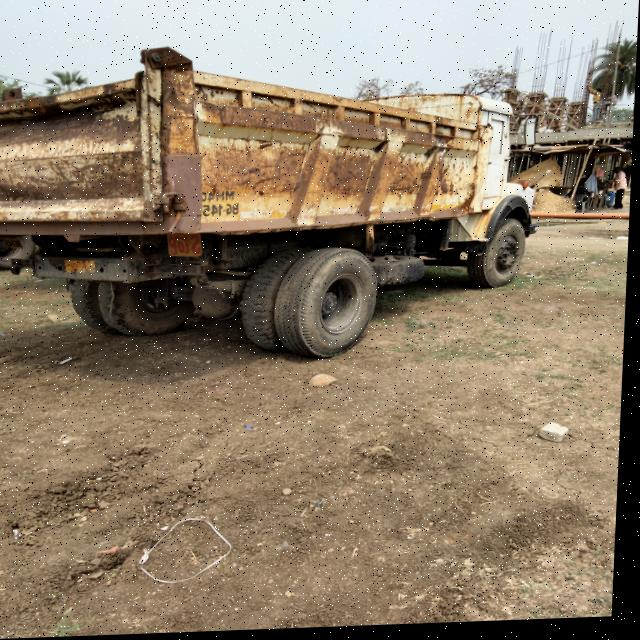plate: (202, 191, 243, 221)
